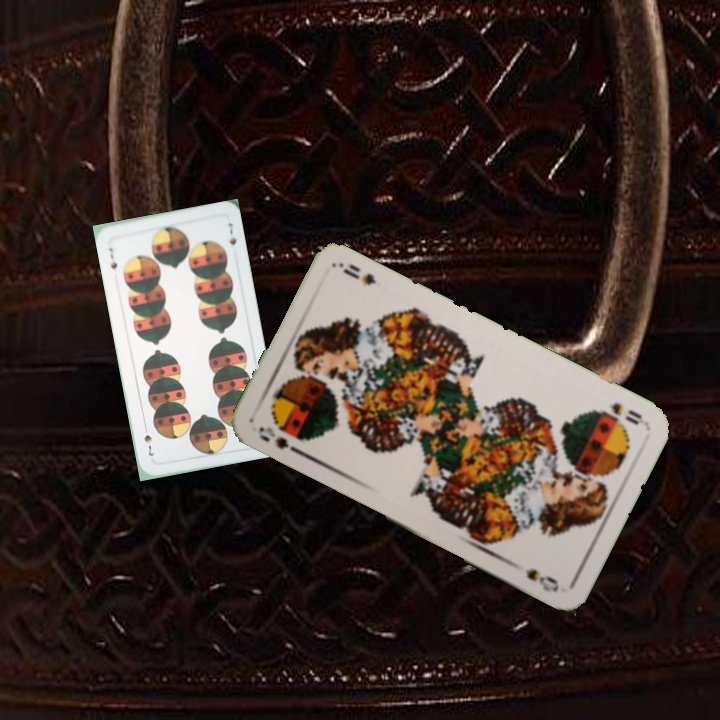S7: (104, 244, 120, 272)
SO: (254, 422, 306, 459), (596, 398, 646, 428)
